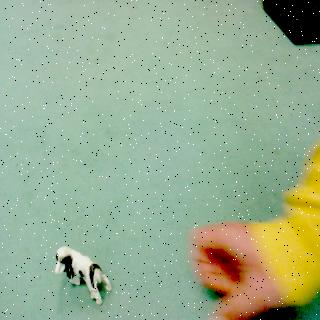dog: (53, 246, 112, 311)
